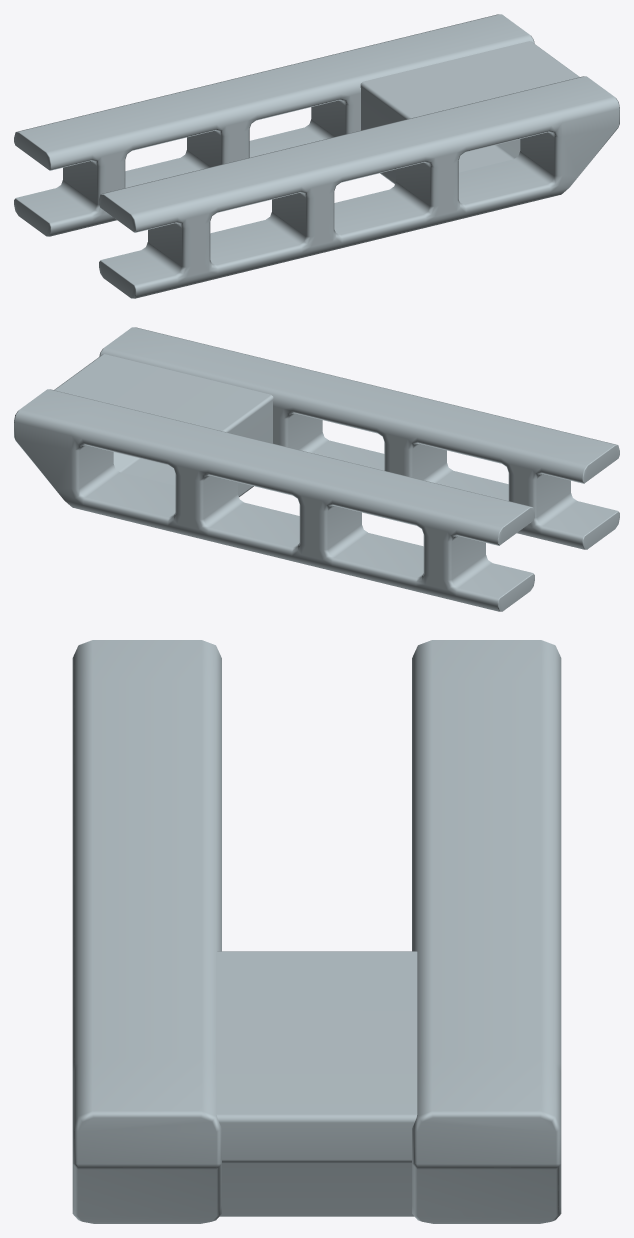
Rendered from beam_002.fbx.
3 views of the same model, one above another, from view 1: azimuth 30°, elevation 25°; view 2: azimuth 150°, elevation 25°; view 3: azimuth 270°, elevation 25° (orthographic). The views are drawn at different scales.
Visible parts, largest first — view 1: beam_002; view 2: beam_002; view 3: beam_002.
Part boxes in pixels (x1,y1,x2,y2): beam_002: (14, 14, 619, 298); beam_002: (14, 327, 619, 611); beam_002: (72, 640, 561, 1223).
Size of the model in its own units: 2535 by 1105 by 423.
